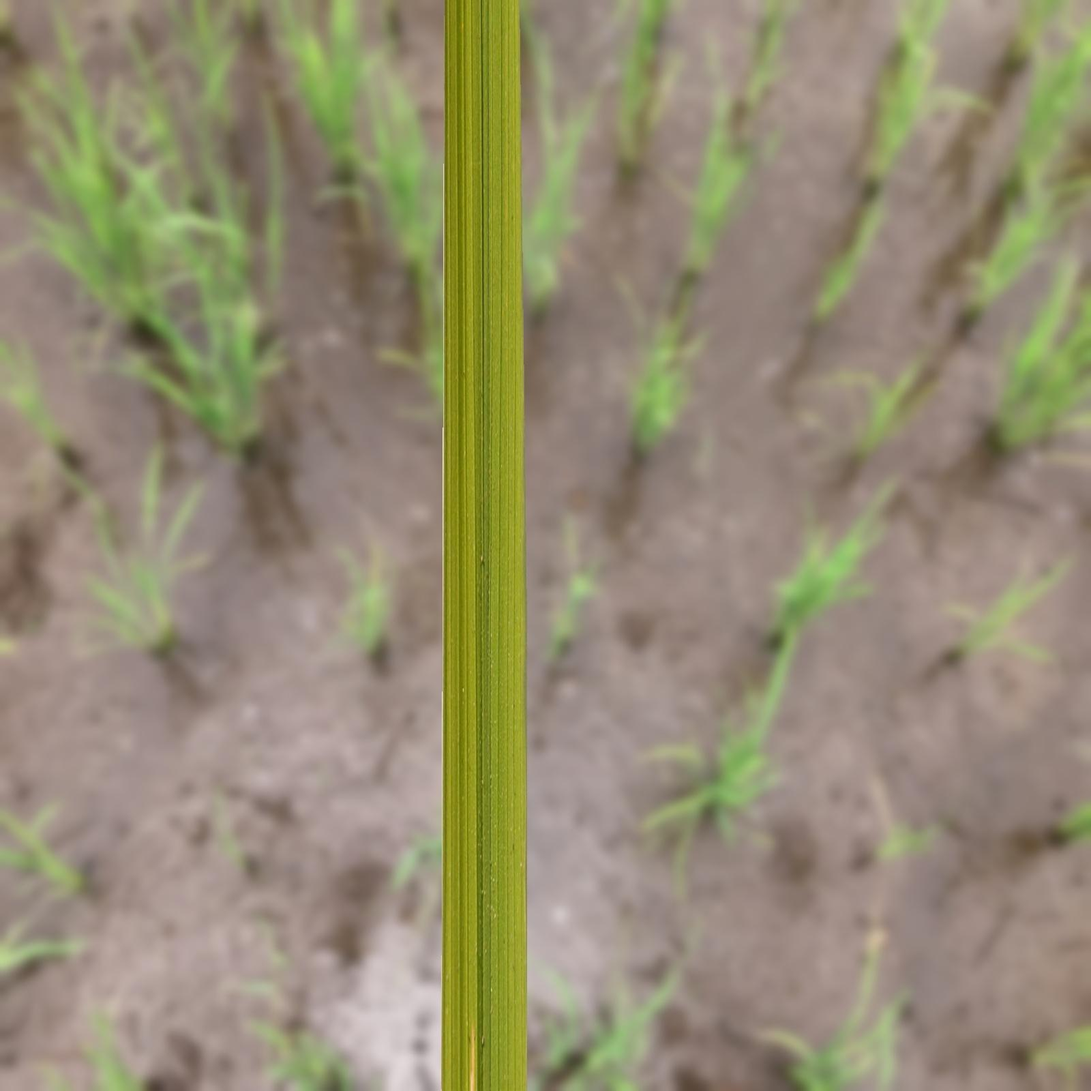BLS: (469, 1024, 476, 1090)
LEAF: (441, 0, 526, 1090)
